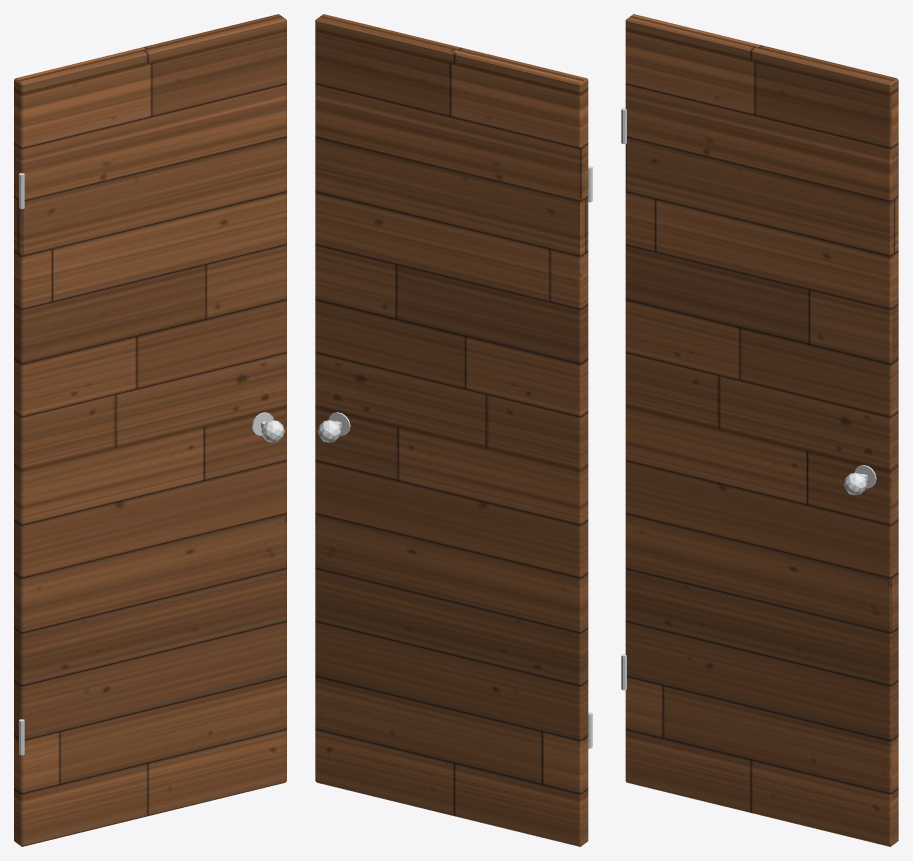
File: door_int.glb
3 renders of one model, left to right at view 1: azimuth 30°, elevation 25°; view 2: azimuth 150°, elevation 25°; view 3: azimuth 330°, elevation 25°, orthographic.
Visible parts, largest first — view 1: door_int_teak, door_int_chrome; view 2: door_int_teak, door_int_chrome; view 3: door_int_teak, door_int_chrome.
Boxes of the visible parts, x1,y1,x2,y2 form: door_int_teak: (14, 14, 286, 846); door_int_chrome: (19, 173, 284, 755); door_int_teak: (315, 14, 588, 846); door_int_chrome: (318, 166, 592, 748); door_int_teak: (625, 14, 898, 846); door_int_chrome: (621, 108, 876, 690).
Bounding box in the file's own units: 0.747 × 2.03 × 0.196.
Materials: 2 (1 with a texture image).
